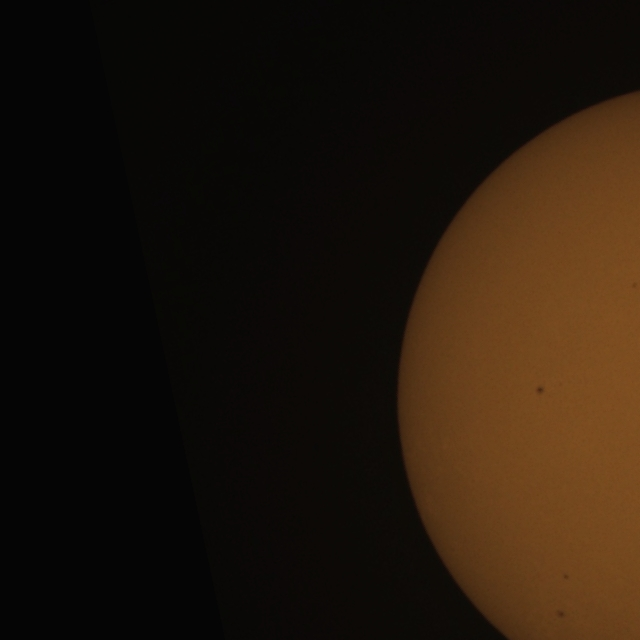sunspot: (535, 385, 546, 396), (555, 609, 565, 620), (631, 281, 639, 290), (562, 572, 570, 581)
